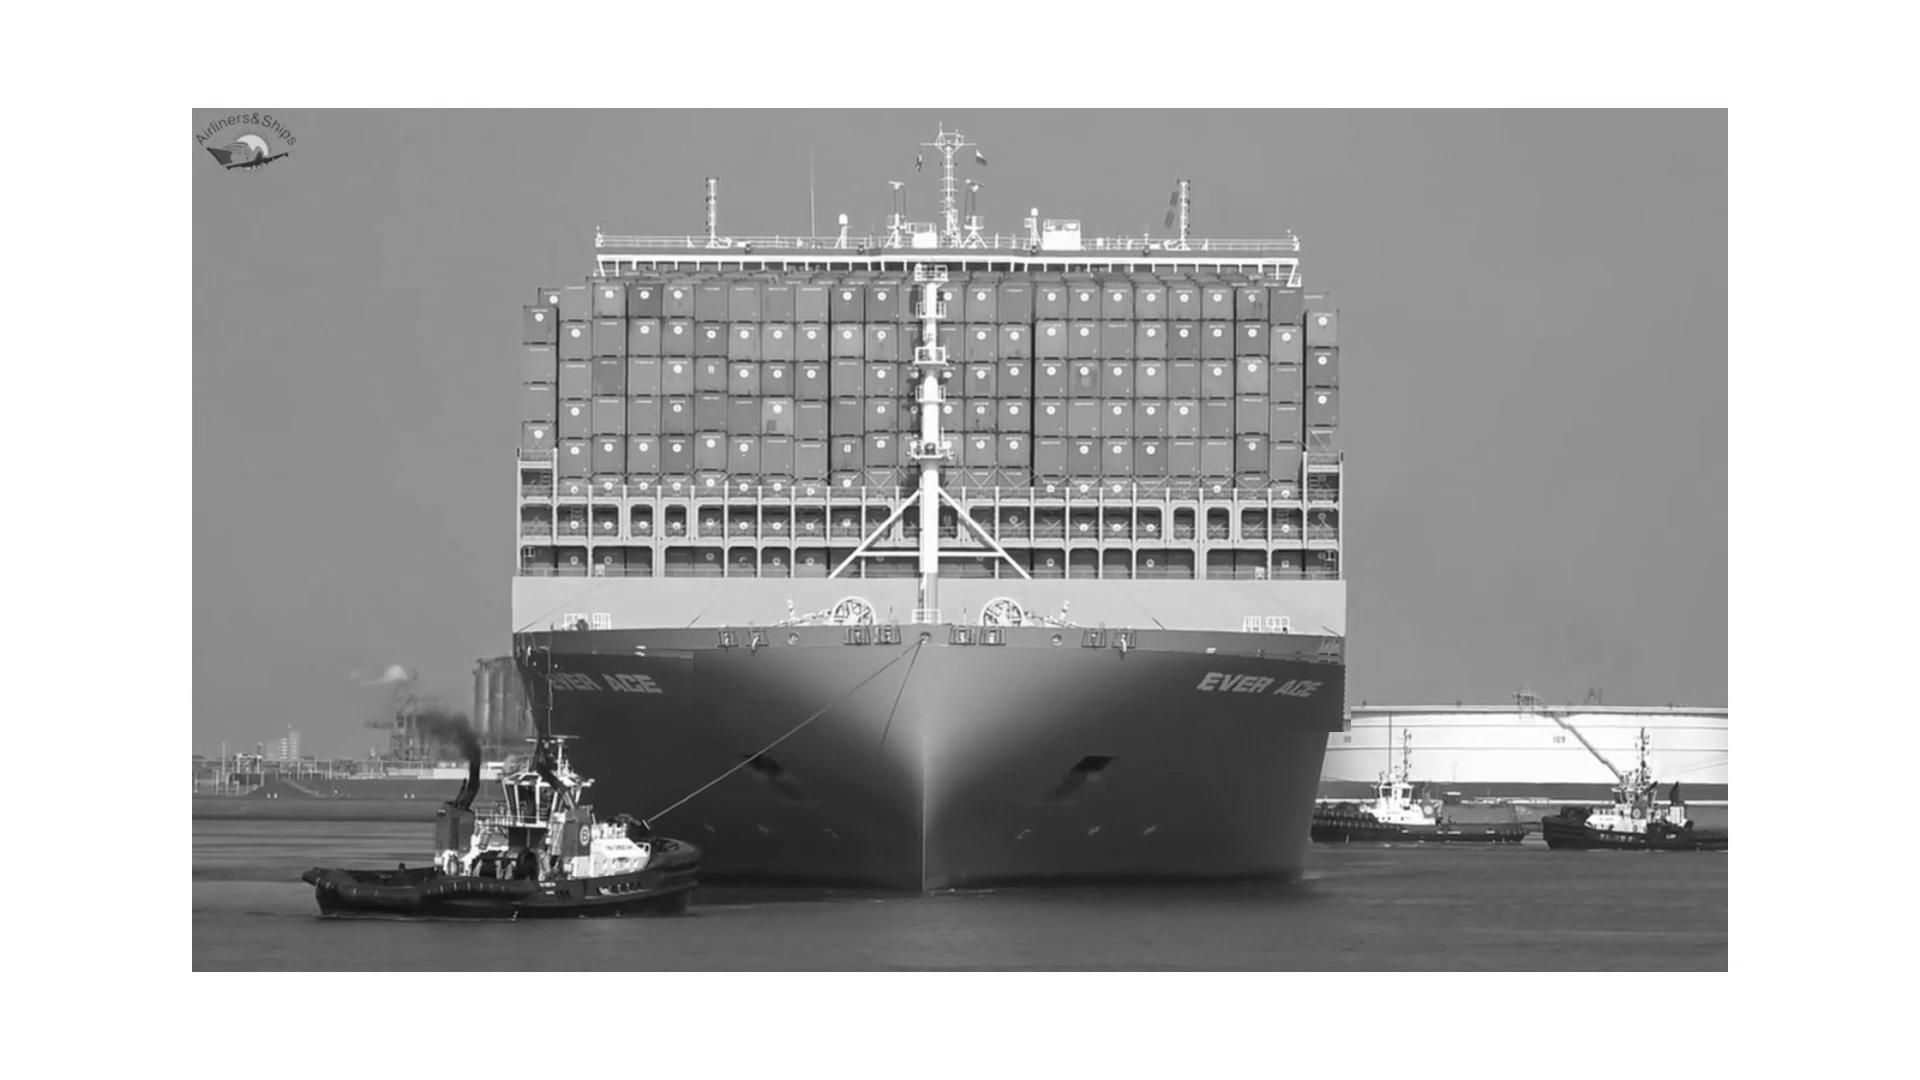OCR: (1162, 649, 1352, 732), (516, 642, 694, 711)
